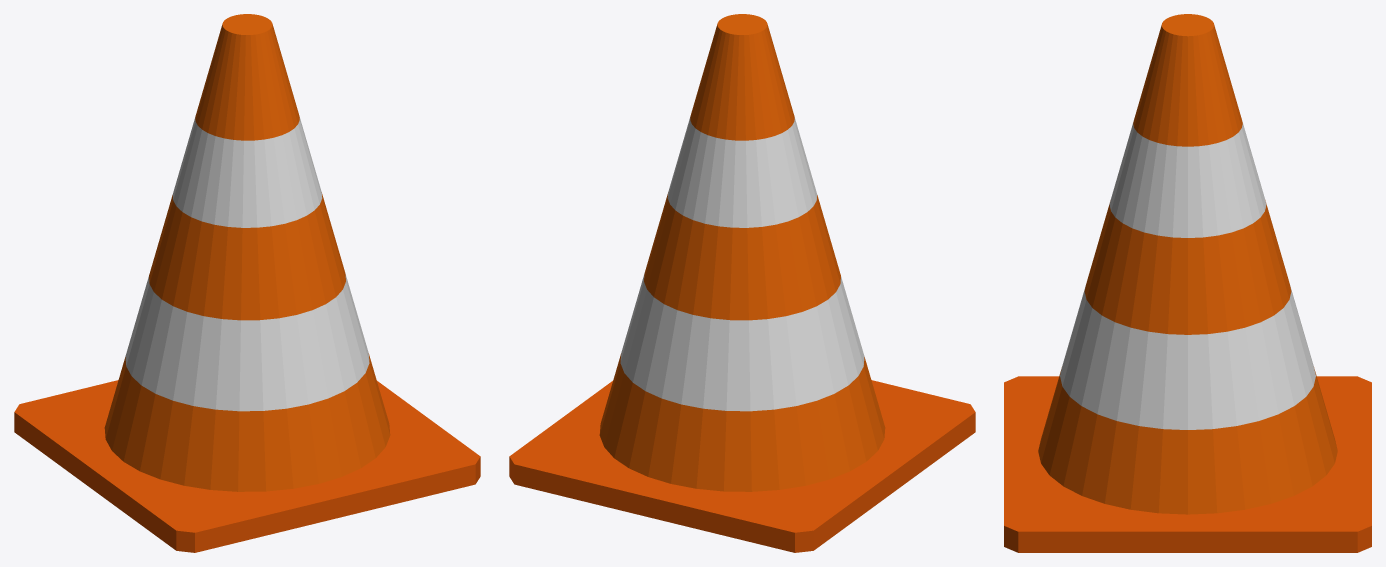
Rendered from traffic_cone_.dae.
3 renders of one model, left to right at view 1: azimuth 30°, elevation 25°; view 2: azimuth 150°, elevation 25°; view 3: azimuth 270°, elevation 25°, orthographic. The views are drawn at different scales.
Visible parts, largest first — view 1: Cylinder; view 2: Cylinder; view 3: Cylinder.
Part boxes in pixels (x1,y1,x2,y2): Cylinder: (14, 14, 480, 552); Cylinder: (509, 14, 975, 552); Cylinder: (1004, 14, 1371, 552).
Bounding box in the file's own units: 0.2969 × 0.2969 × 0.4009.
